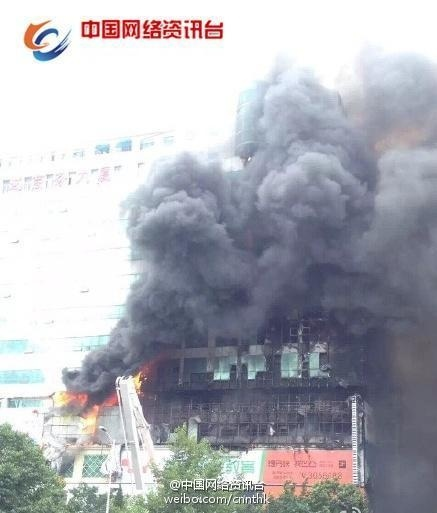fire: (56, 380, 121, 427)
